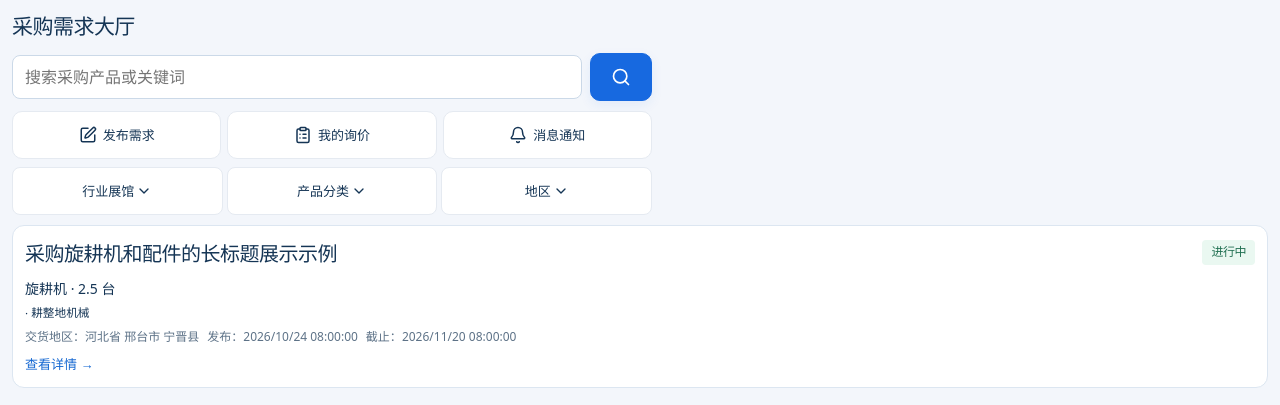
shows an embedded request hall with three shortcuts and no duplicate workspace navigation
This screenshot has width=1280, height=405.
expect the text "采购旋耕机和配件的长标题展示示例" is shown: met, box x1=25 y1=240 x2=337 y2=267
Click the link "采购旋耕机和配件".
click(640, 306)  # box x1=25 y1=240 x2=1255 y2=373
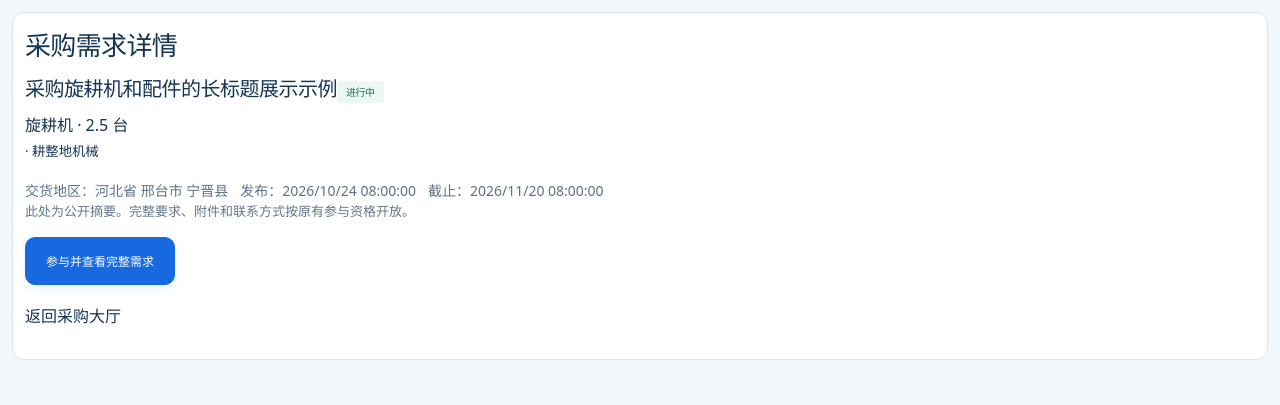
expect the heading "采购需求详情" is shown: met, box x1=25 y1=27 x2=177 y2=63
expect the button "参与并查看完整需求" is shown: met, box x1=25 y1=237 x2=175 y2=285
